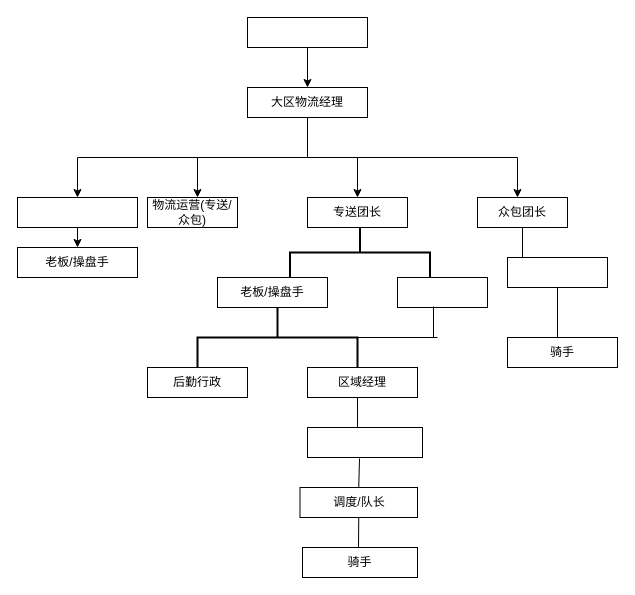
The diagram is 635 pixels wide and 595 high, and some of its shapes have lost their labels. Each missing label, with the centre of its shape:
众包配送经理: (557,272)
战区物流经理: (307,32)
渠道规划: (77,212)
站长: (364,442)
转送配送经理: (442,292)
